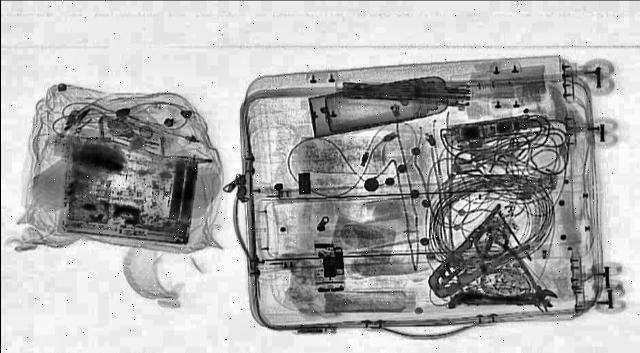Pliers: (404, 202, 550, 302)
Wrench: (464, 288, 556, 308)
